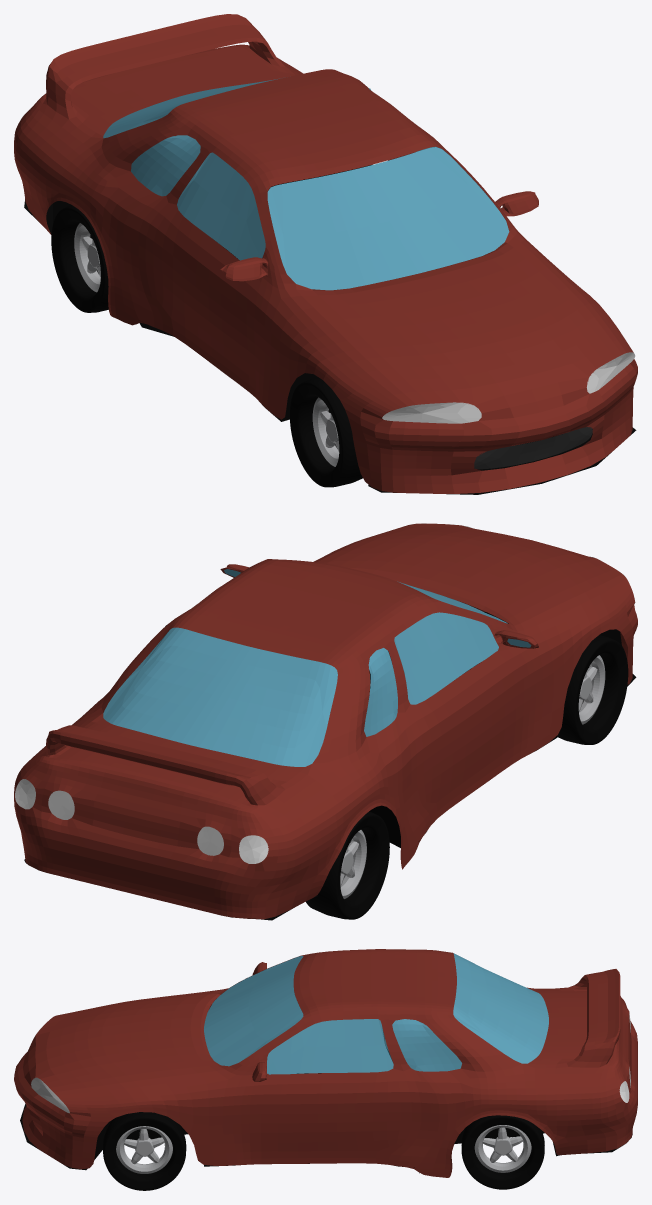
File: R32 GTR Single.fbx
3 views of the same model, one above another, from view 1: azimuth 30°, elevation 25°; view 2: azimuth 150°, elevation 25°; view 3: azimuth 270°, elevation 25° (orthographic). The views are drawn at different scales.
Parts seen in each view (by area): view 1: Chassis, Windscreen, SideWindows, FRTire, RRTire, RearSideWindows, HeadLights, Grill, RearWindow, Underside, RRRing, FRRing; view 2: Chassis, RearWindow, SideWindows, FRTire, RRTire, RearLights, RearSideWindows, Underside, RRRing, FRRing; view 3: Chassis, Windscreen, RearWindow, SideWindows, FLTire, RLTire, RearSideWindows, FLRing, RLRing, Underside, FLInner, RLInner (+1 smaller).
Boxes of the visible parts, box(x1,y1,x2,y2) form: Chassis: box(14, 14, 637, 493); Windscreen: box(267, 147, 509, 290); SideWindows: box(177, 146, 493, 260); FRTire: box(289, 377, 362, 487); RRTire: box(51, 205, 108, 312); RearSideWindows: box(131, 88, 371, 196); HeadLights: box(382, 352, 635, 423); Grill: box(474, 427, 592, 469); RearWindow: box(103, 78, 279, 138); Underside: box(24, 171, 636, 494); RRRing: box(74, 223, 100, 292); FRRing: box(312, 397, 339, 466); Chassis: box(14, 523, 637, 919); RearWindow: box(103, 627, 337, 766); SideWindows: box(394, 612, 498, 704); FRTire: box(557, 635, 628, 744); RRTire: box(306, 811, 389, 919); RearLights: box(15, 779, 268, 863); RearSideWindows: box(165, 624, 397, 736); Underside: box(24, 612, 636, 920); RRRing: box(340, 830, 366, 898); FRRing: box(579, 655, 605, 724); Chassis: box(14, 949, 637, 1177); Windscreen: box(204, 956, 303, 1066); RearWindow: box(453, 953, 548, 1063); SideWindows: box(267, 1019, 393, 1074); FLTire: box(103, 1112, 186, 1190); RLTire: box(461, 1115, 544, 1189); RearSideWindows: box(392, 1019, 461, 1071); FLRing: box(116, 1126, 172, 1173); RLRing: box(474, 1125, 531, 1172); Underside: box(20, 1073, 632, 1173); FLInner: box(124, 1129, 164, 1164); RLInner: box(482, 1127, 522, 1162).
Size of the model in its own units: 145 by 95.89 by 331.
